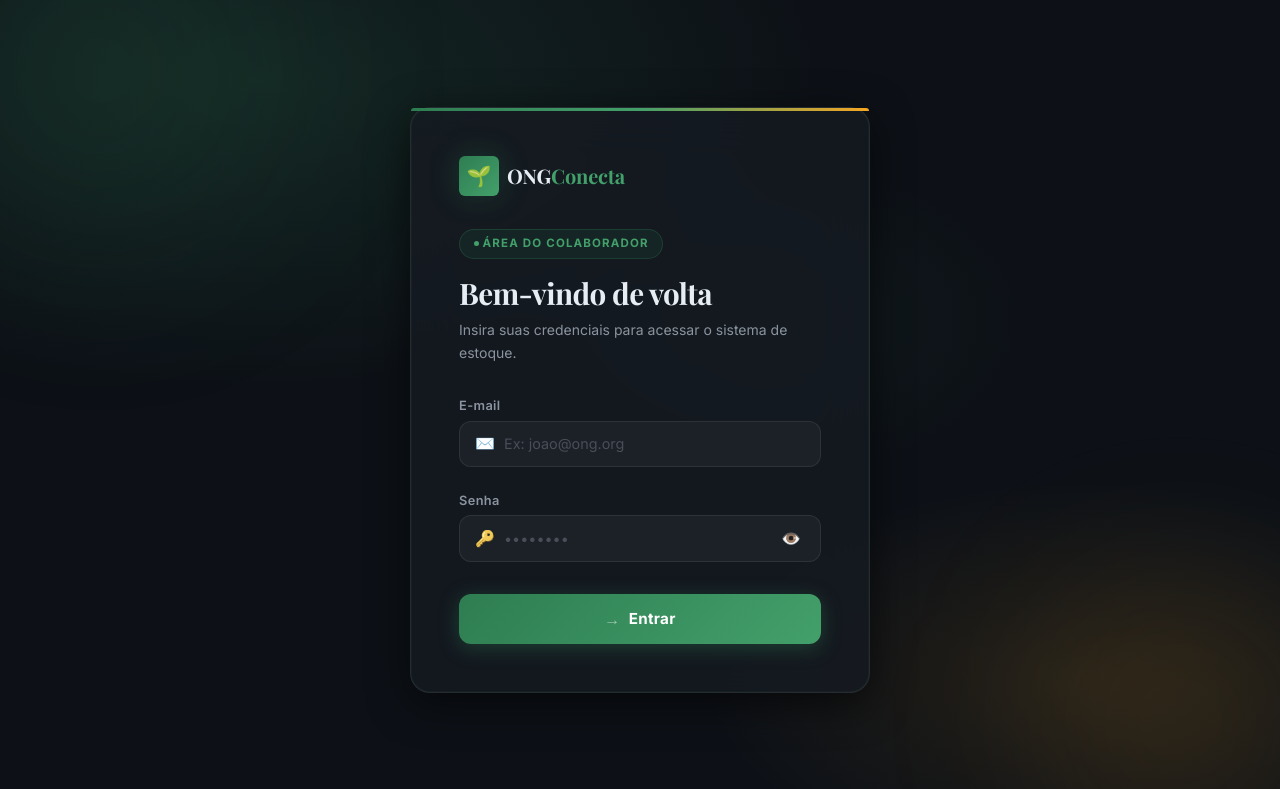
Test: App — fluxo de navegação › navega para a página de Itens a partir do StockOverview
In the field labelled "E-mail": x=640, y=444 [459,421,821,467], type "admin@ong.org"
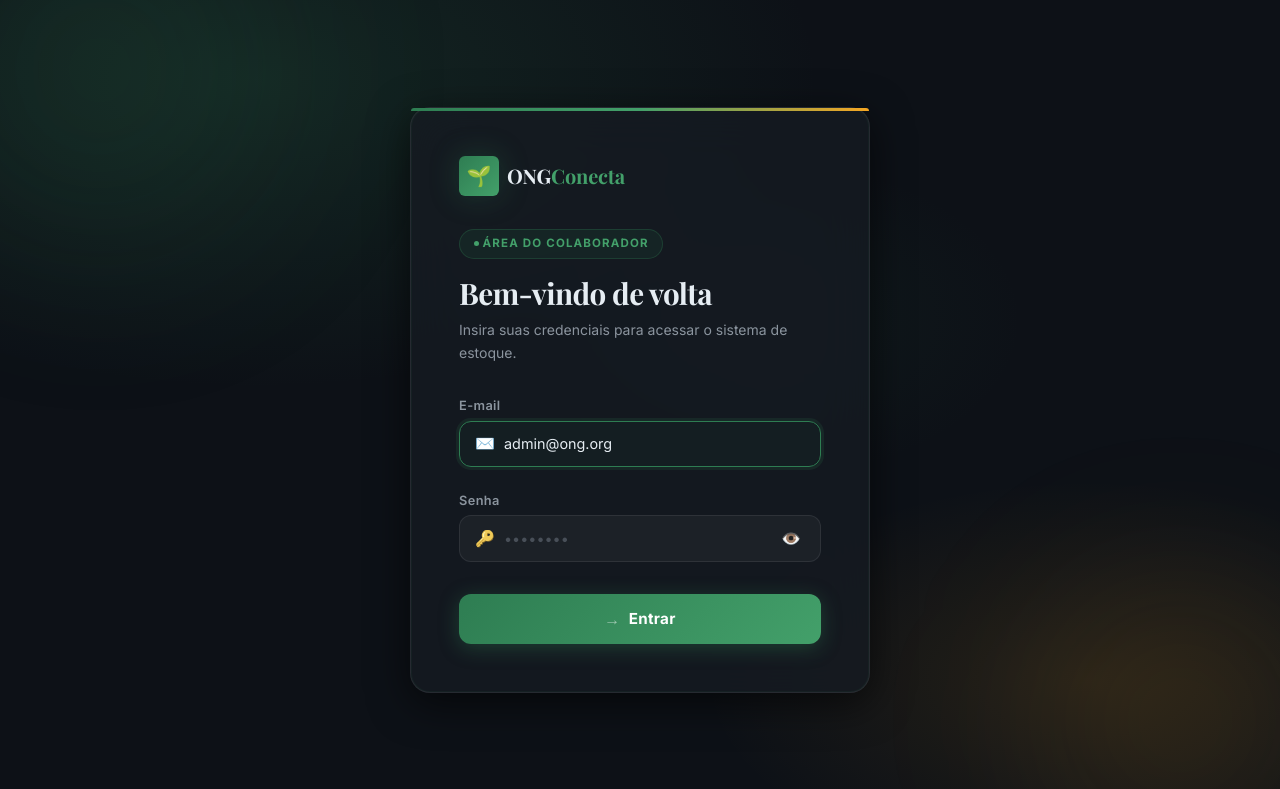
In the password field with id "login-password": x=640, y=538 [459,515,821,562], type "senha123"
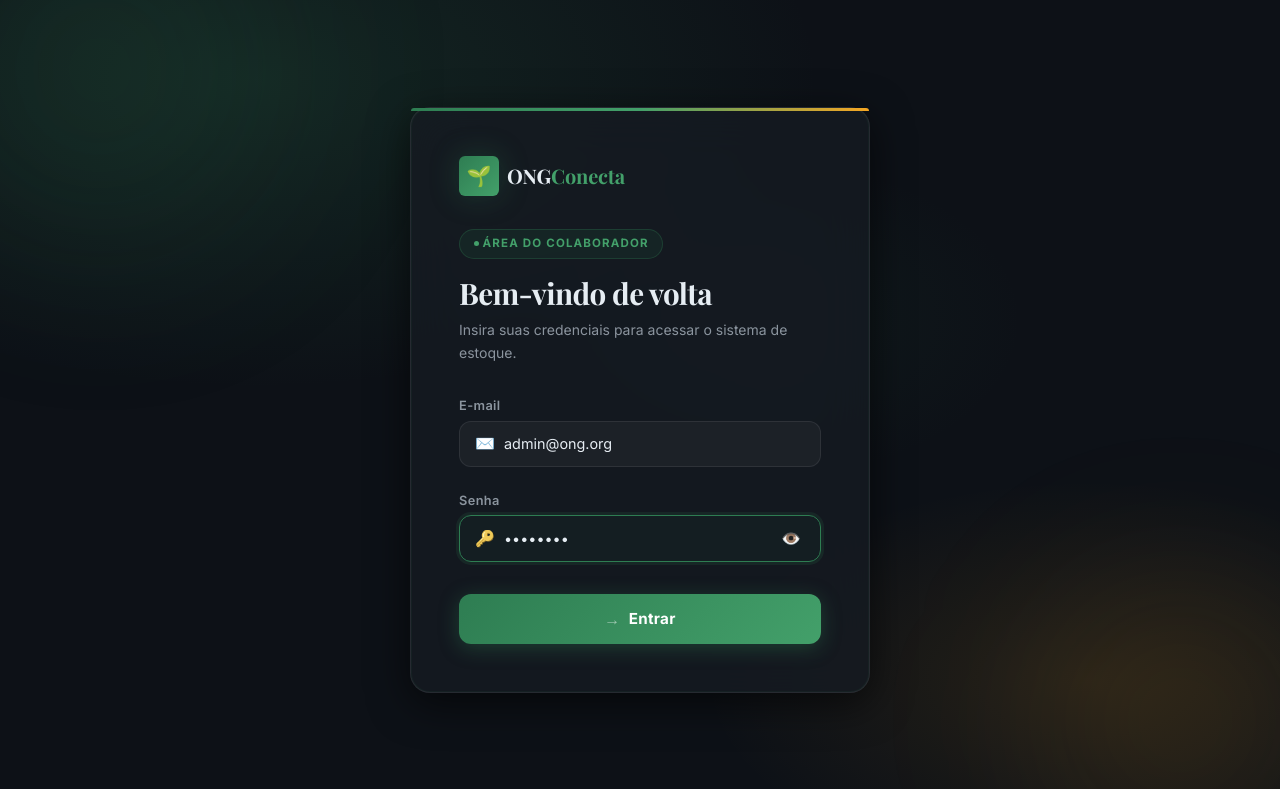
Click the button "→ Entrar": x=640, y=619 [459,594,821,644]
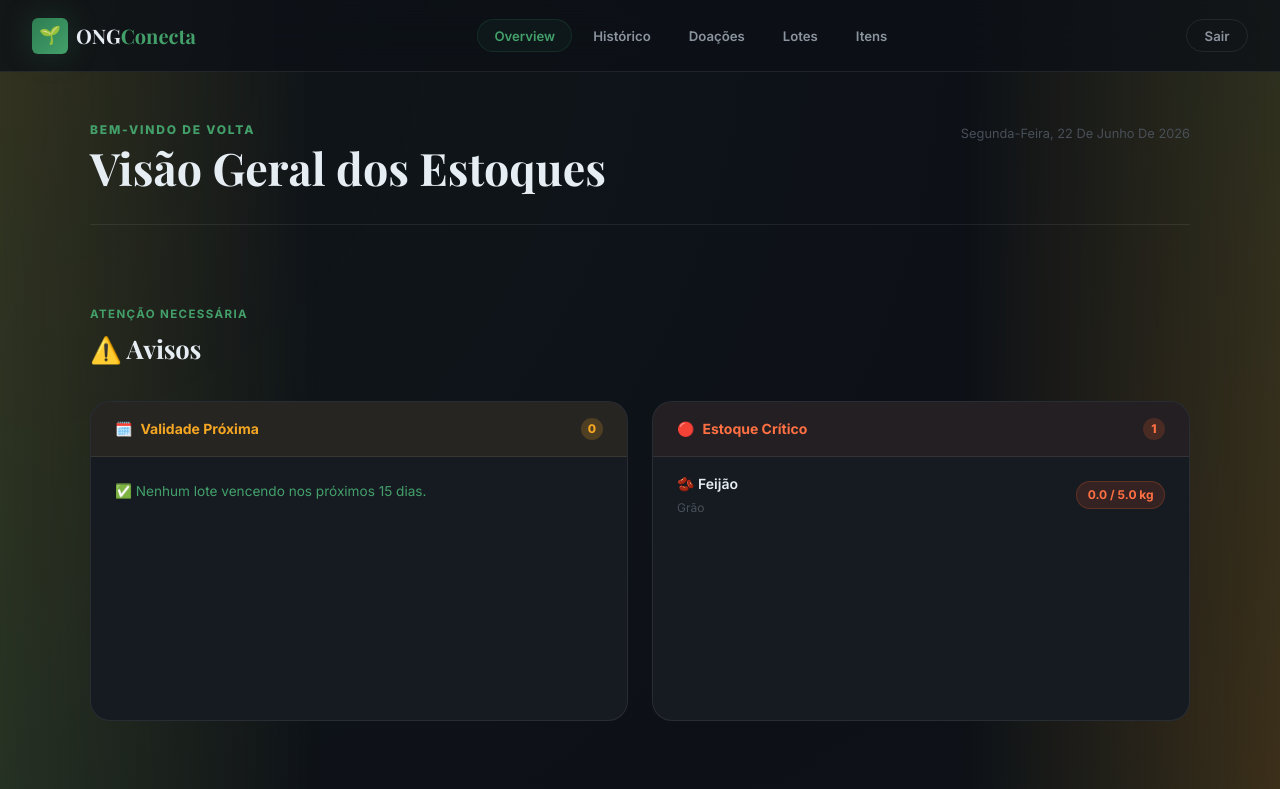
Check: the button "Itens" is shown
Click the button "Itens": x=872, y=36 [839,19,904,52]
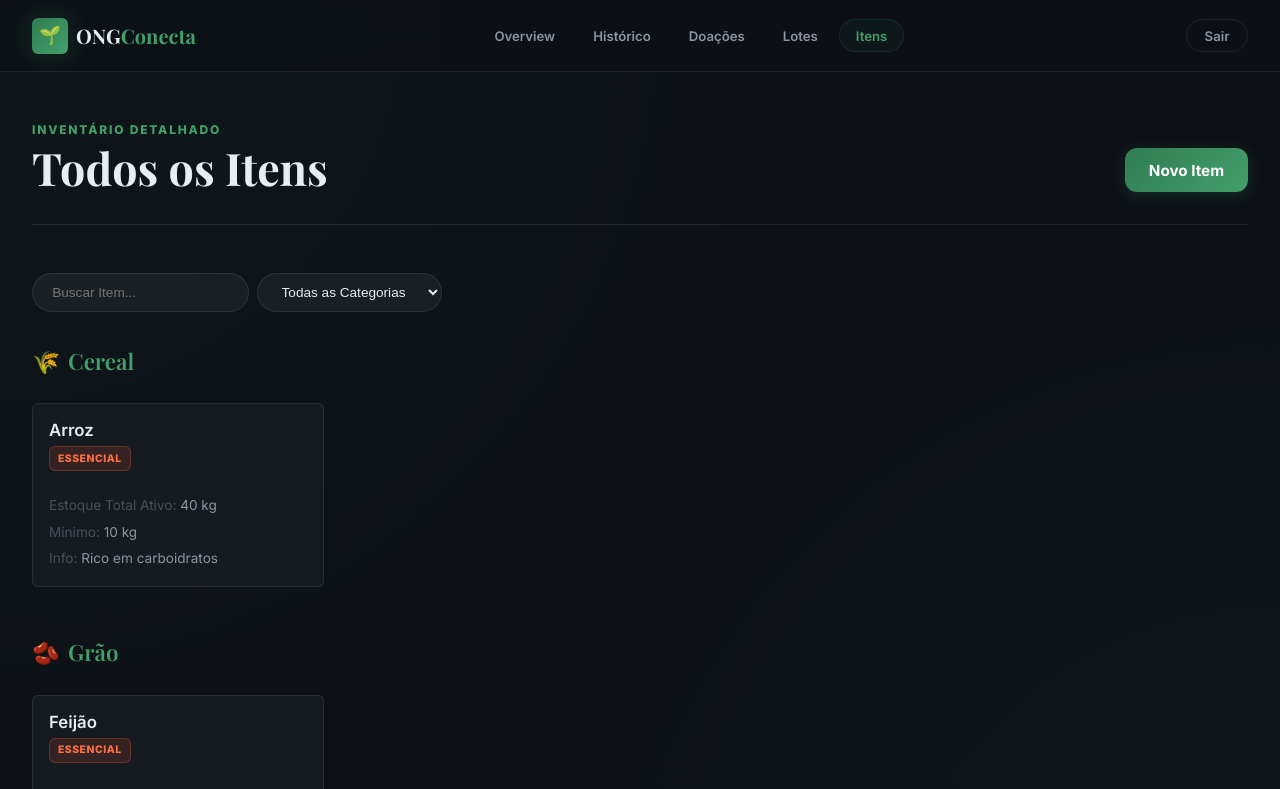
Check: the heading "Todos os Itens" is shown, box [32,143,328,192]
